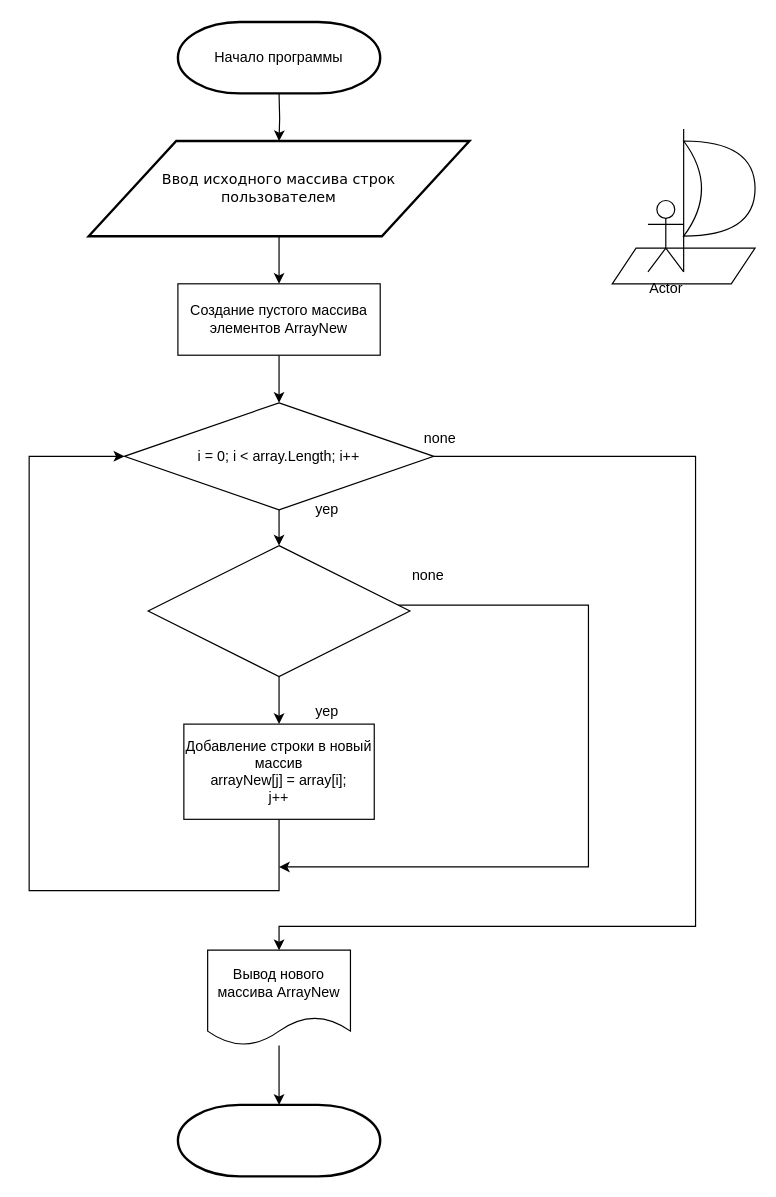
Some shapes in this 776 by 1197 pixel diagram are drawn without their labels. The shapes that lost their labels are listed below. From the top down, each one's centre as x and y in pixels, then its label:
At (x=718, y=188): "Do it".
At (x=278, y=610): "Длинна строки массива меньше 3 символов?".
At (x=278, y=1140): "Конец".
